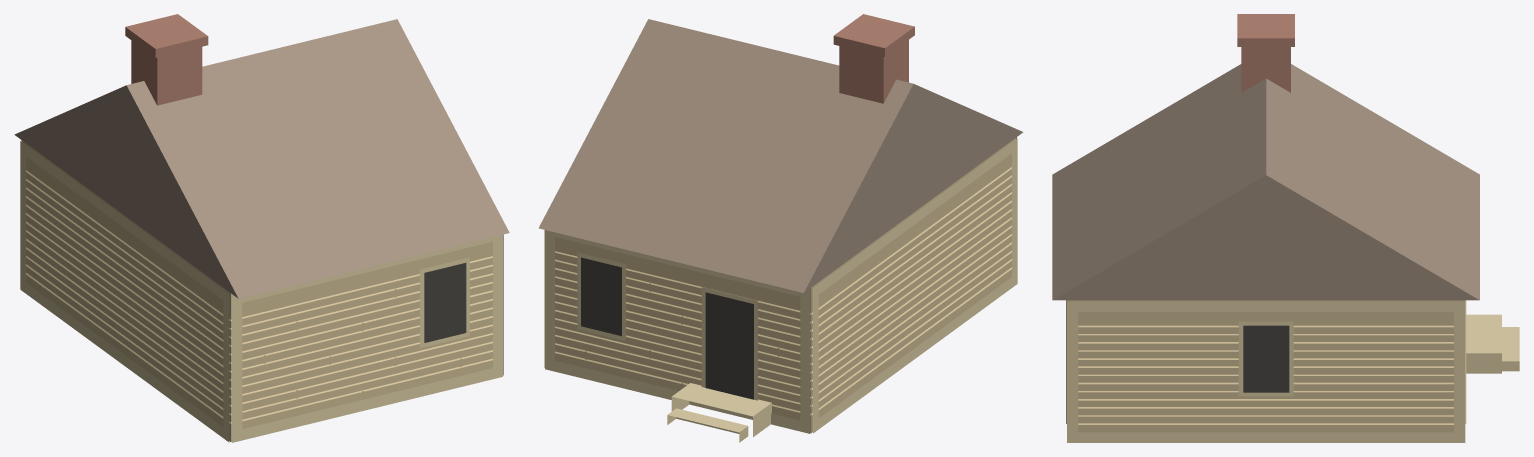
File: recon_1835_blk_south_water_dearborn_d3_08__inferred_1835.glb
3 views of the same model, side by side, from view 1: azimuth 30°, elevation 25°; view 2: azimuth 150°, elevation 25°; view 3: azimuth 270°, elevation 25° (orthographic). The views are drawn at different scales.
Parts seen in each view (by area): view 1: recon_1835_blk_south_water_dearborn_d3_08__inferred_1835; view 2: recon_1835_blk_south_water_dearborn_d3_08__inferred_1835; view 3: recon_1835_blk_south_water_dearborn_d3_08__inferred_1835.
Part boxes in pixels (x1,y1,x2,y2): recon_1835_blk_south_water_dearborn_d3_08__inferred_1835: (14, 14, 509, 442); recon_1835_blk_south_water_dearborn_d3_08__inferred_1835: (539, 14, 1023, 442); recon_1835_blk_south_water_dearborn_d3_08__inferred_1835: (1052, 14, 1519, 442).
Bounding box in the file's own units: 5.13 × 5.77 × 7.91.
